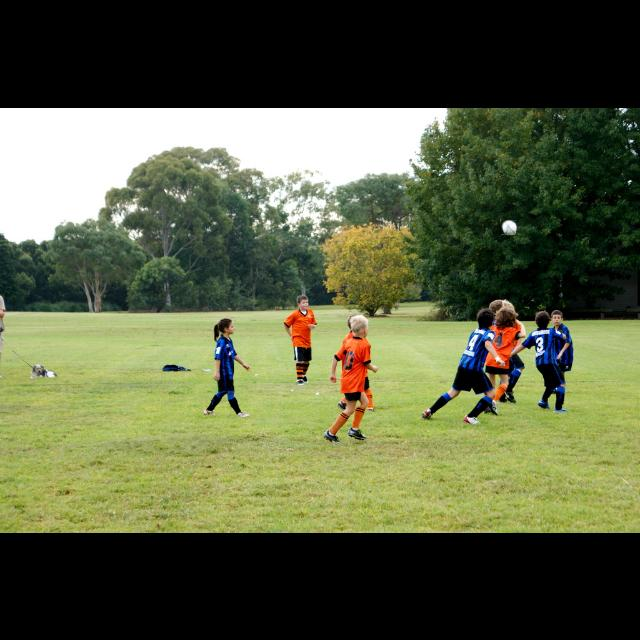Football: (500, 219, 516, 235)
